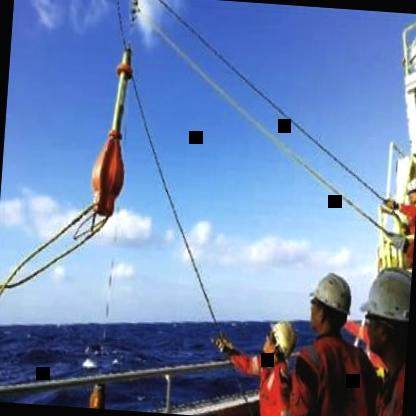helmet: (358, 261, 413, 361), (305, 266, 357, 341), (262, 318, 300, 365)
